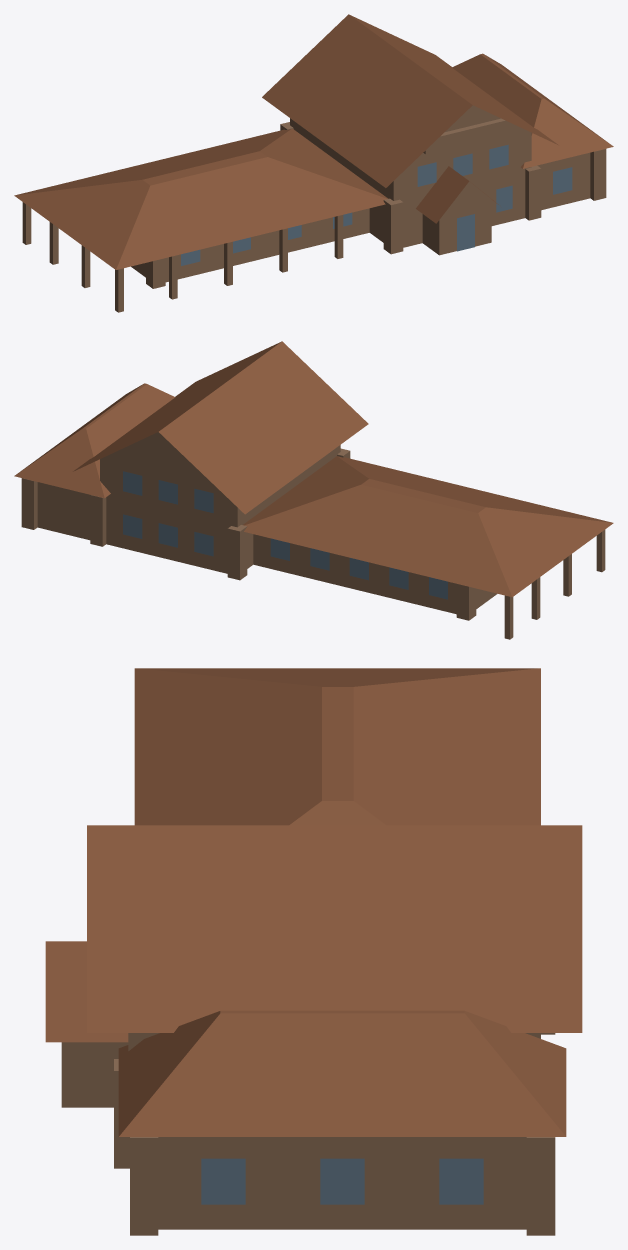
File: grand-canyon-depot.glb
3 views of the same model, one above another, from view 1: azimuth 30°, elevation 25°; view 2: azimuth 150°, elevation 25°; view 3: azimuth 270°, elevation 25° (orthographic). The views are drawn at different scales.
Visible parts, largest first — view 1: Grand Canyon Railway Depot; view 2: Grand Canyon Railway Depot; view 3: Grand Canyon Railway Depot.
Part boxes in pixels (<box>): Grand Canyon Railway Depot: <box>14,14,613,312</box>; Grand Canyon Railway Depot: <box>14,341,613,639</box>; Grand Canyon Railway Depot: <box>45,668,582,1235</box>.
Bounding box in the file's own units: 35.8 × 9.4 × 16.9.
